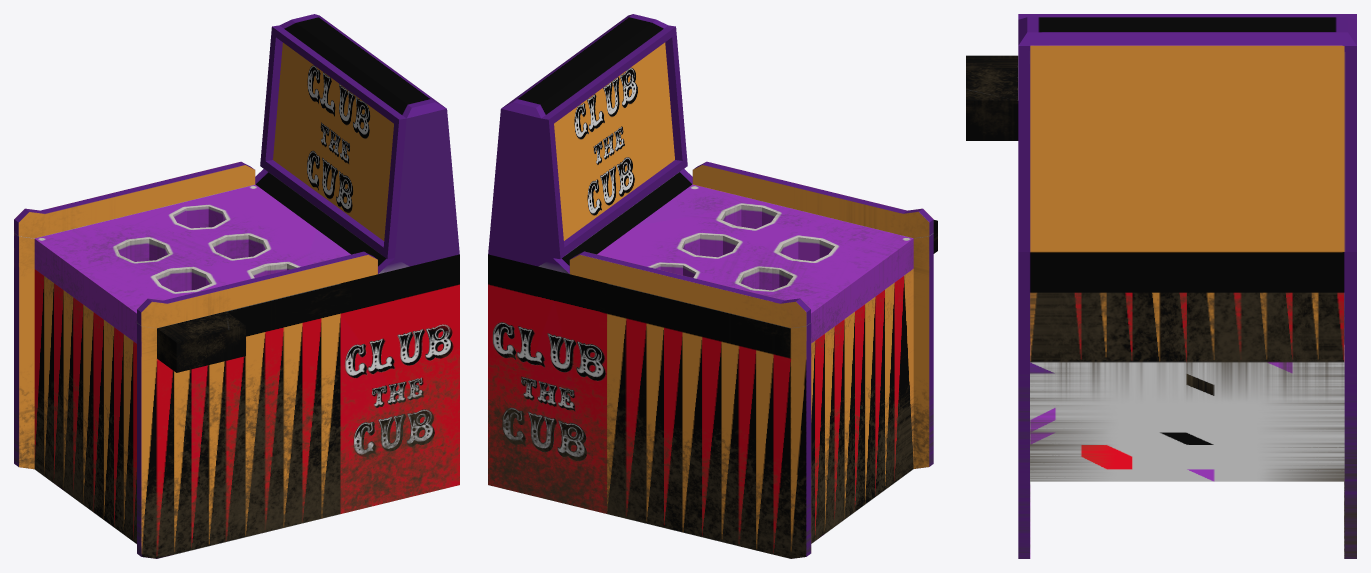
Rendered from machine.fbx.
3 views of the same model, side by side, from view 1: azimuth 30°, elevation 25°; view 2: azimuth 150°, elevation 25°; view 3: azimuth 270°, elevation 25° (orthographic). The views are drawn at different scales.
Parts seen in each view (by area): view 1: machine; view 2: machine; view 3: machine.
Part boxes in pixels (<box>): machine: <box>14,14,459,558</box>; machine: <box>488,14,937,558</box>; machine: <box>966,14,1356,558</box>.
Size of the model in its own units: 289 by 334 by 231.
